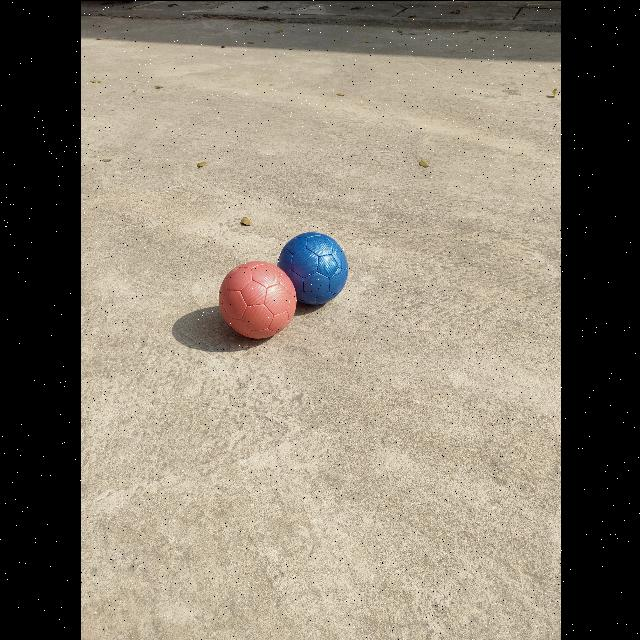B: (276, 231, 347, 303)
R: (218, 260, 296, 338)
